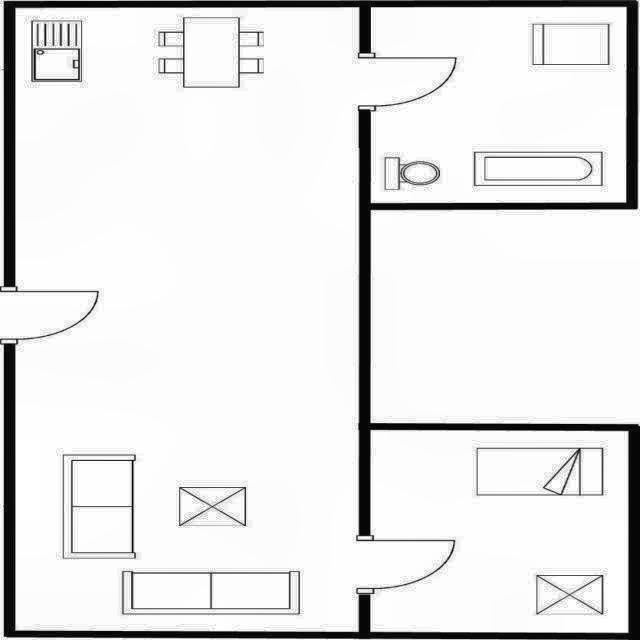room: (14, 7, 360, 632), (370, 430, 629, 633), (370, 7, 626, 203)
